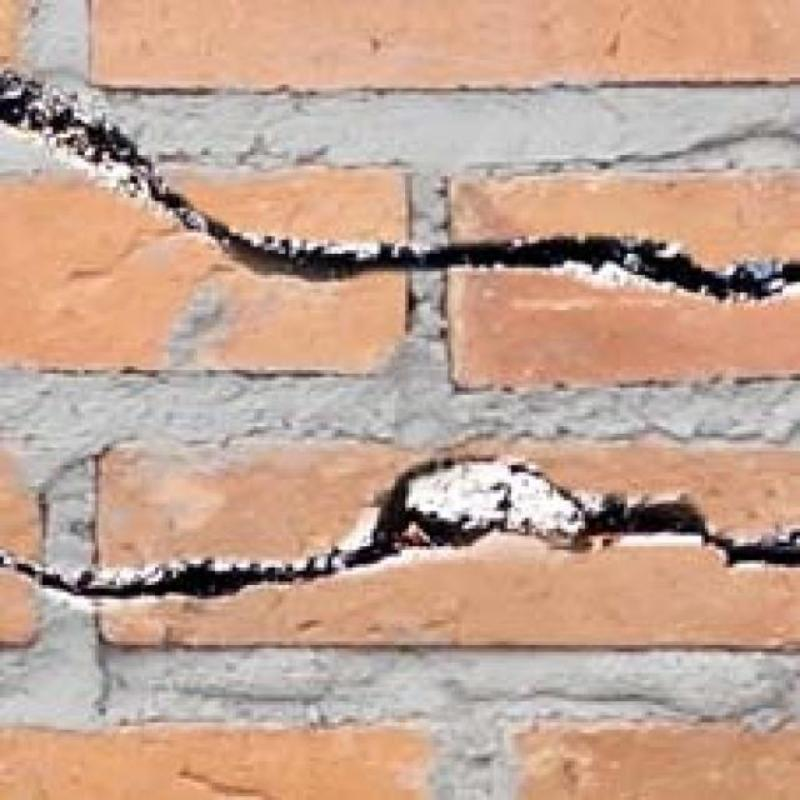pothole: (0, 70, 799, 295), (0, 457, 513, 598), (500, 464, 799, 566)
